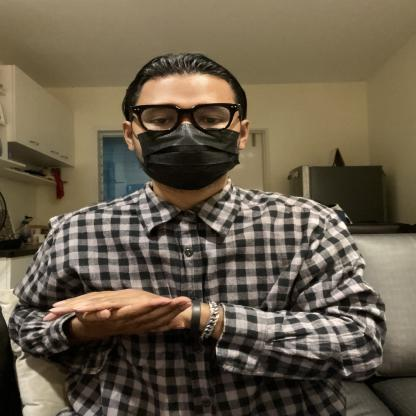Love: (35, 265, 248, 348)
